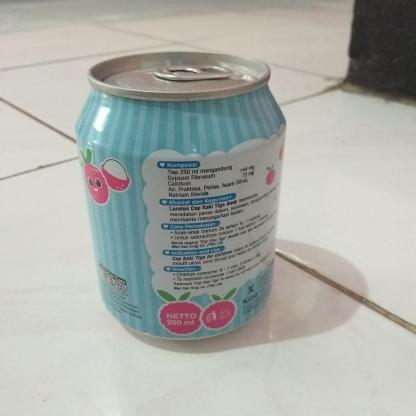can: (74, 45, 292, 346)
